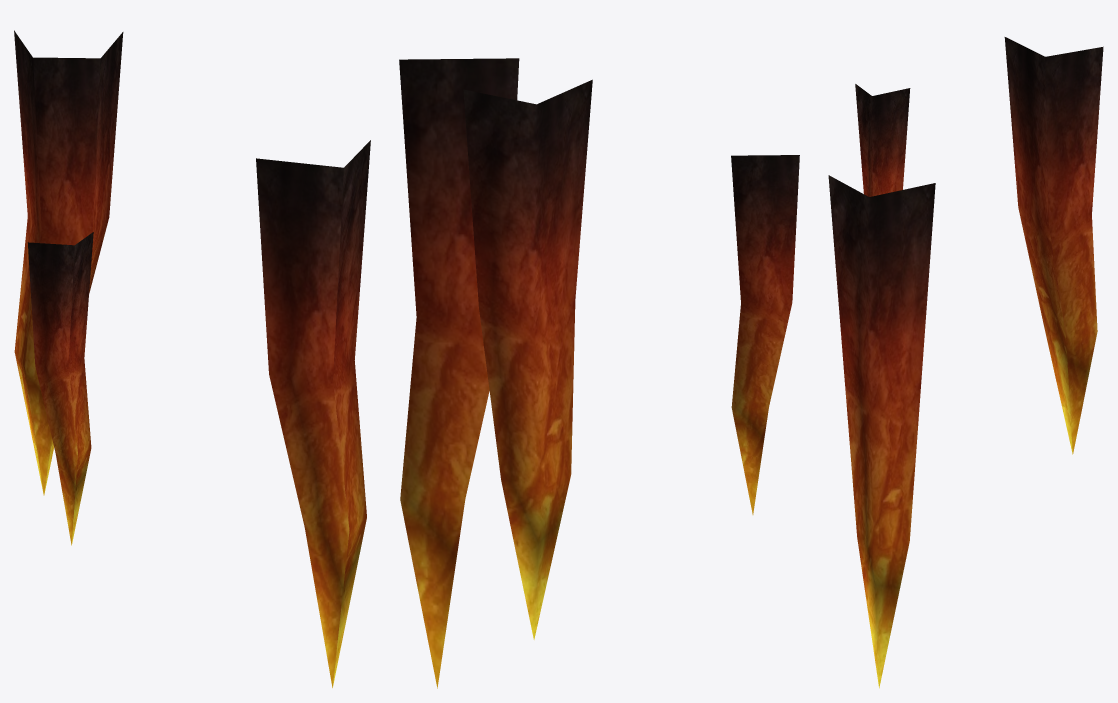
Rendered from lavaspike.003.glb.
3 views of the same model, side by side, from view 1: azimuth 30°, elevation 25°; view 2: azimuth 150°, elevation 25°; view 3: azimuth 270°, elevation 25° (orthographic). The views are drawn at different scales.
Parts seen in each view (by area): view 1: blackrock_lava.jpg__; view 2: blackrock_lava.jpg__; view 3: blackrock_lava.jpg__.
Part boxes in pixels (x1=…): blackrock_lava.jpg__: x1=14, y1=30, x2=370, y2=687; blackrock_lava.jpg__: x1=399, y1=58, x2=799, y2=688; blackrock_lava.jpg__: x1=828, y1=37, x2=1103, y2=688.
Size of the model in its own units: 2.97 by 5.25 by 2.26.
1 material, 1 textured.
